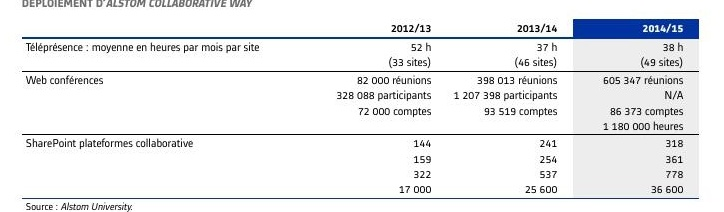table: (0, 0, 724, 212)
